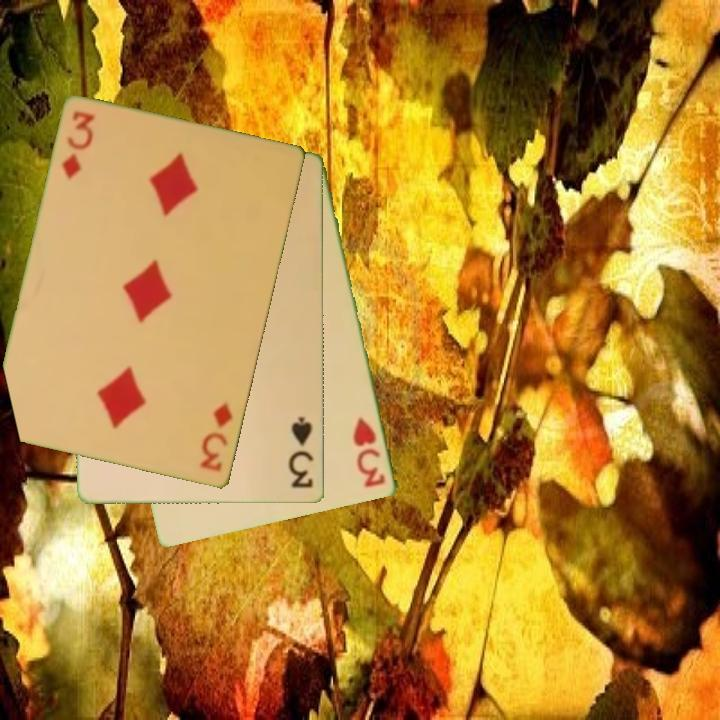3d: (196, 400, 237, 475), (59, 108, 98, 183)
3h: (349, 414, 389, 491)
3s: (286, 414, 317, 491)
